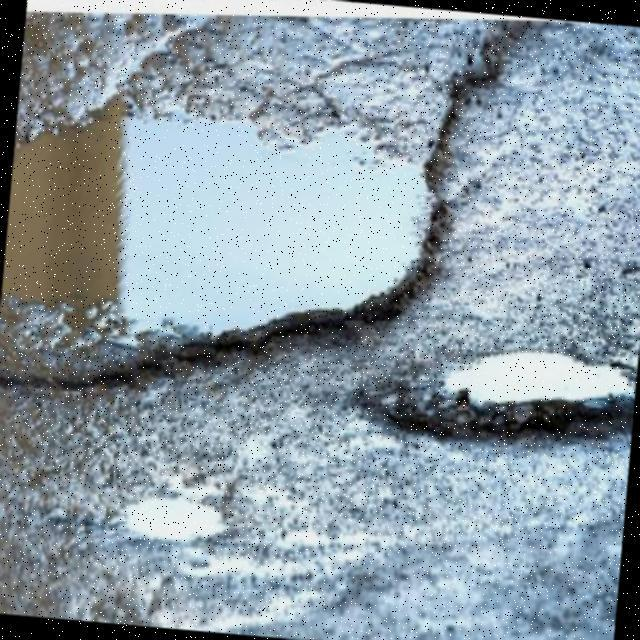Pothole: (0, 7, 526, 377), (380, 353, 636, 442)
